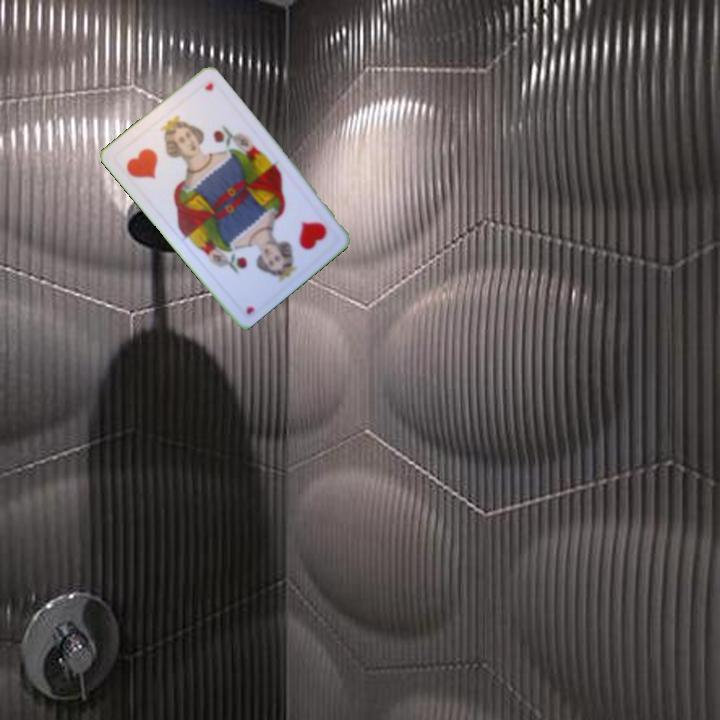h_q.png: (255, 194, 342, 279), (111, 115, 197, 200)
